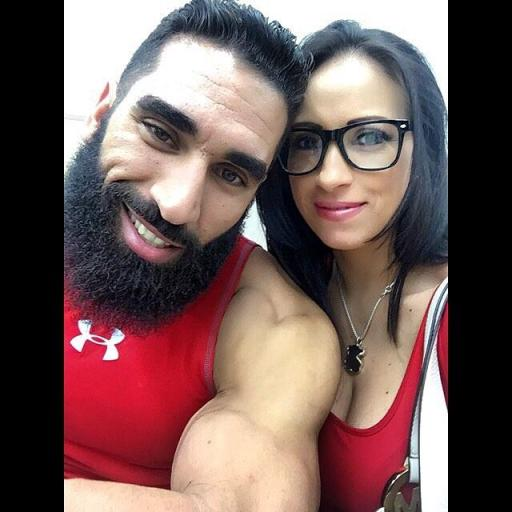Under Armour: (67, 315, 127, 363)
